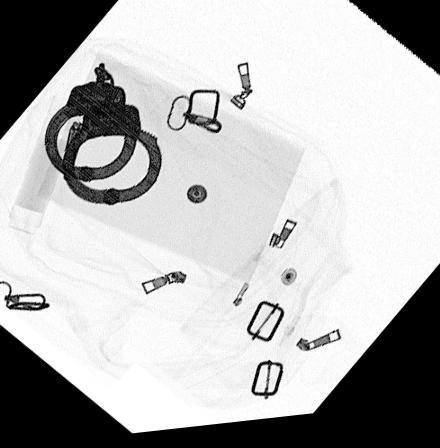HandCuffs: (41, 62, 162, 208)
